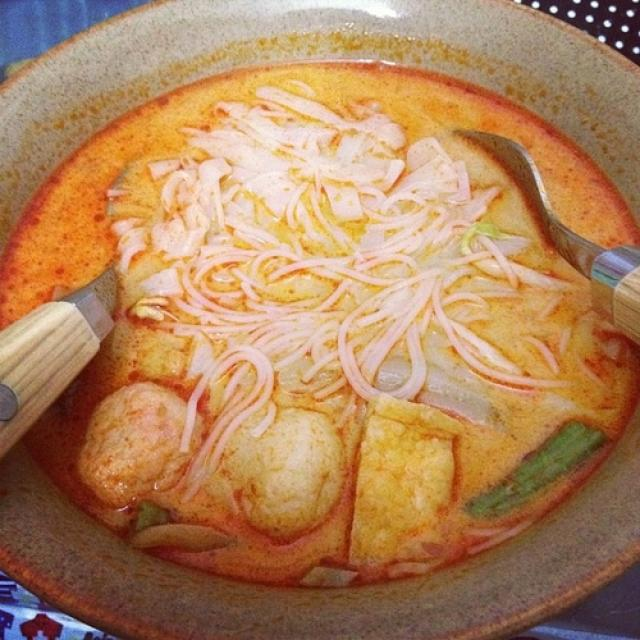面条主食: (32, 34, 616, 578)
